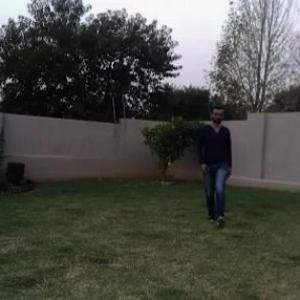follow: (195, 105, 233, 224)
